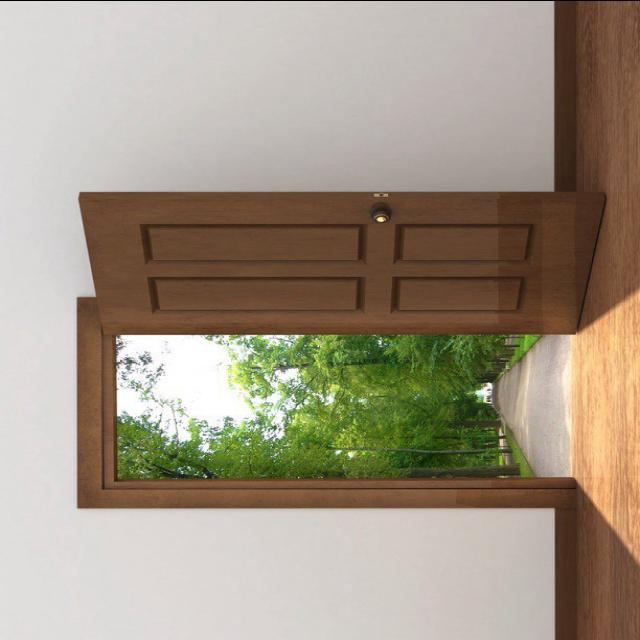open: (85, 207, 588, 490)
